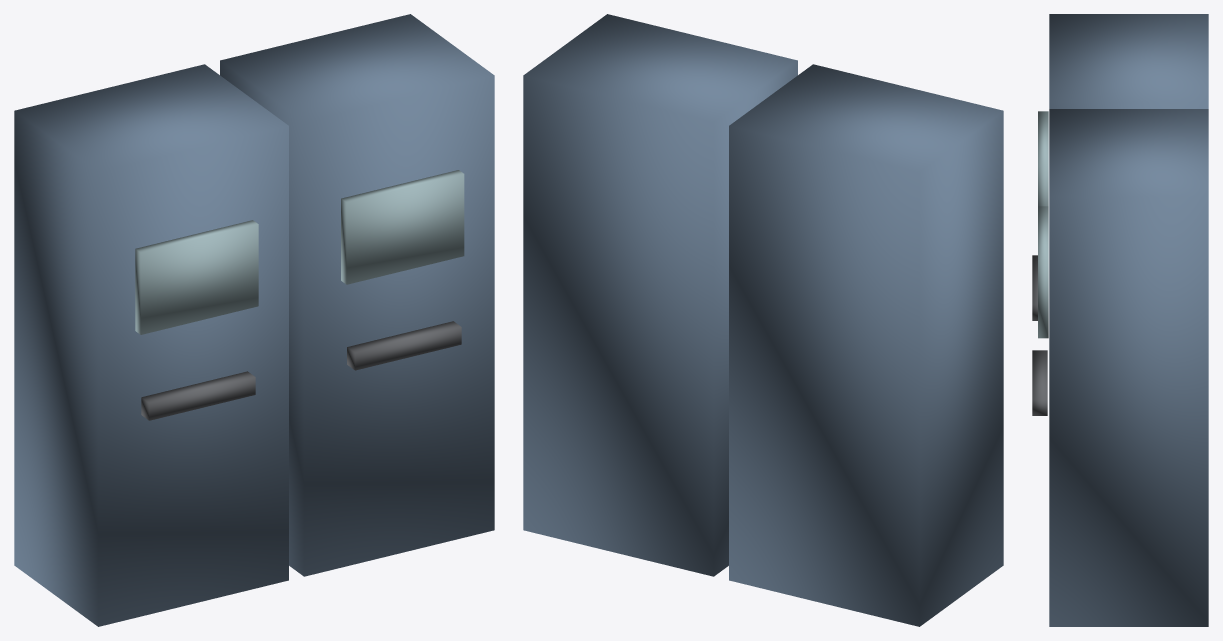
Rendered from information_kiosk__cluster.glb.
3 views of the same model, side by side, from view 1: azimuth 30°, elevation 25°; view 2: azimuth 150°, elevation 25°; view 3: azimuth 270°, elevation 25° (orthographic). The views are drawn at different scales.
Parts seen in each view (by area): view 1: world; view 2: world; view 3: world.
Part boxes in pixels (left/top/right/bottom): world: left=14, top=14, right=494, bottom=626; world: left=523, top=14, right=1003, bottom=626; world: left=1032, top=14, right=1208, bottom=626.
Bounding box in the file's own units: 1.41 × 1.55 × 0.575.
